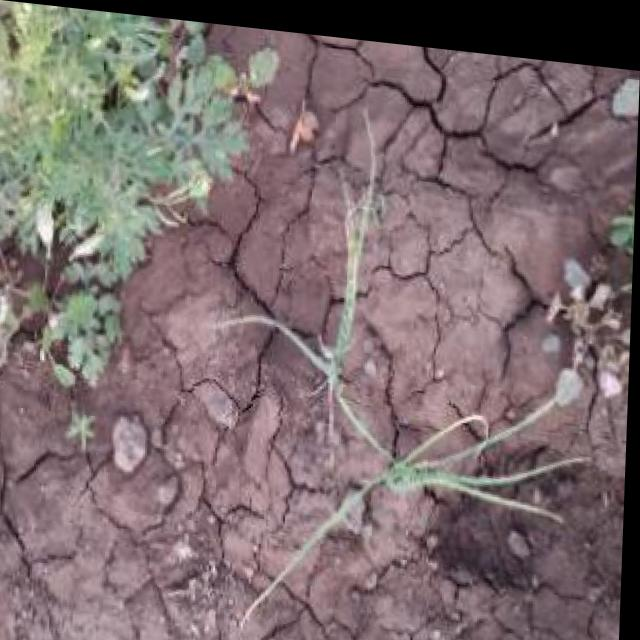weed: (0, 0, 257, 394), (519, 47, 640, 519)
